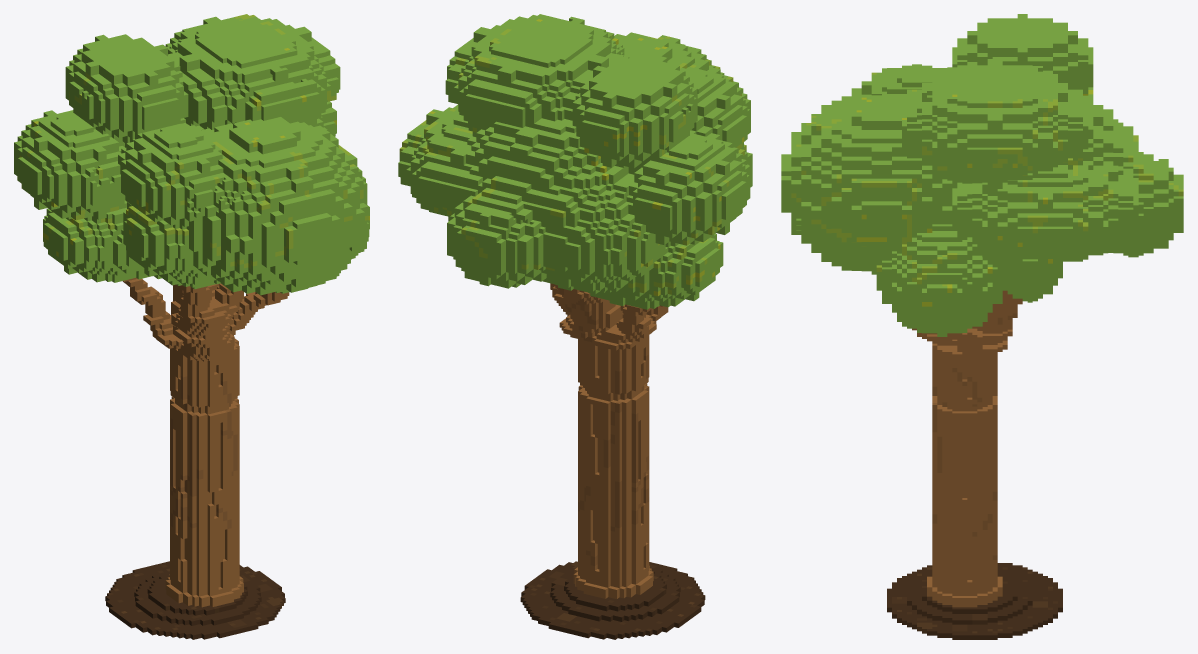
The model's file is 1_2 pitomb.obj.
3 views of the same model, side by side, from view 1: azimuth 30°, elevation 25°; view 2: azimuth 150°, elevation 25°; view 3: azimuth 270°, elevation 25° (orthographic). The views are drawn at different scales.
Size of the model in its own units: 7 by 12 by 8.
Materials: 1 (1 with a texture image).
